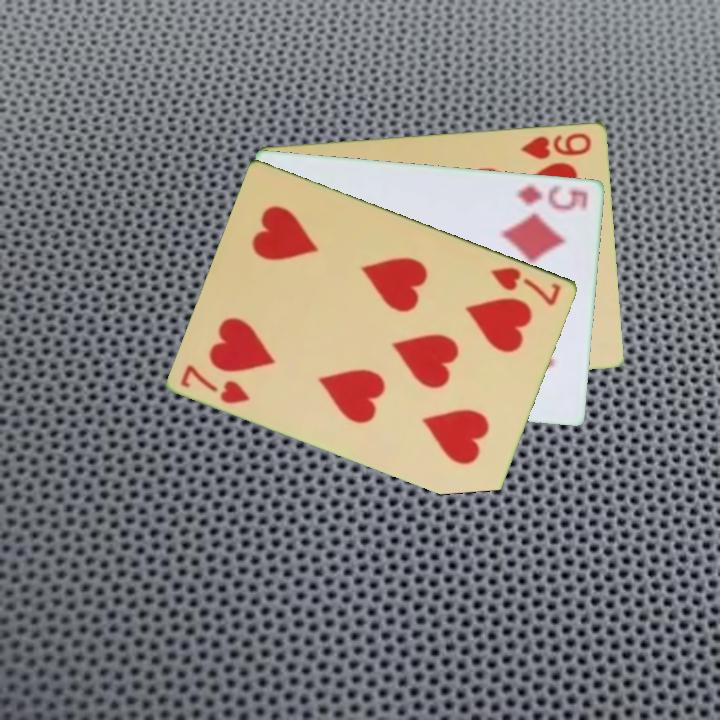5d: (514, 181, 591, 213)
7h: (487, 263, 565, 309), (177, 361, 254, 407)
9h: (518, 128, 595, 162)
